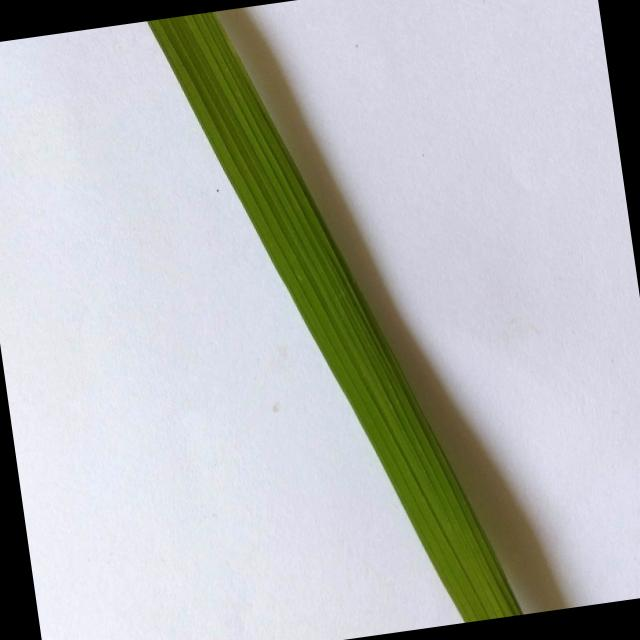Rice_Healthy: (147, 12, 522, 622)
